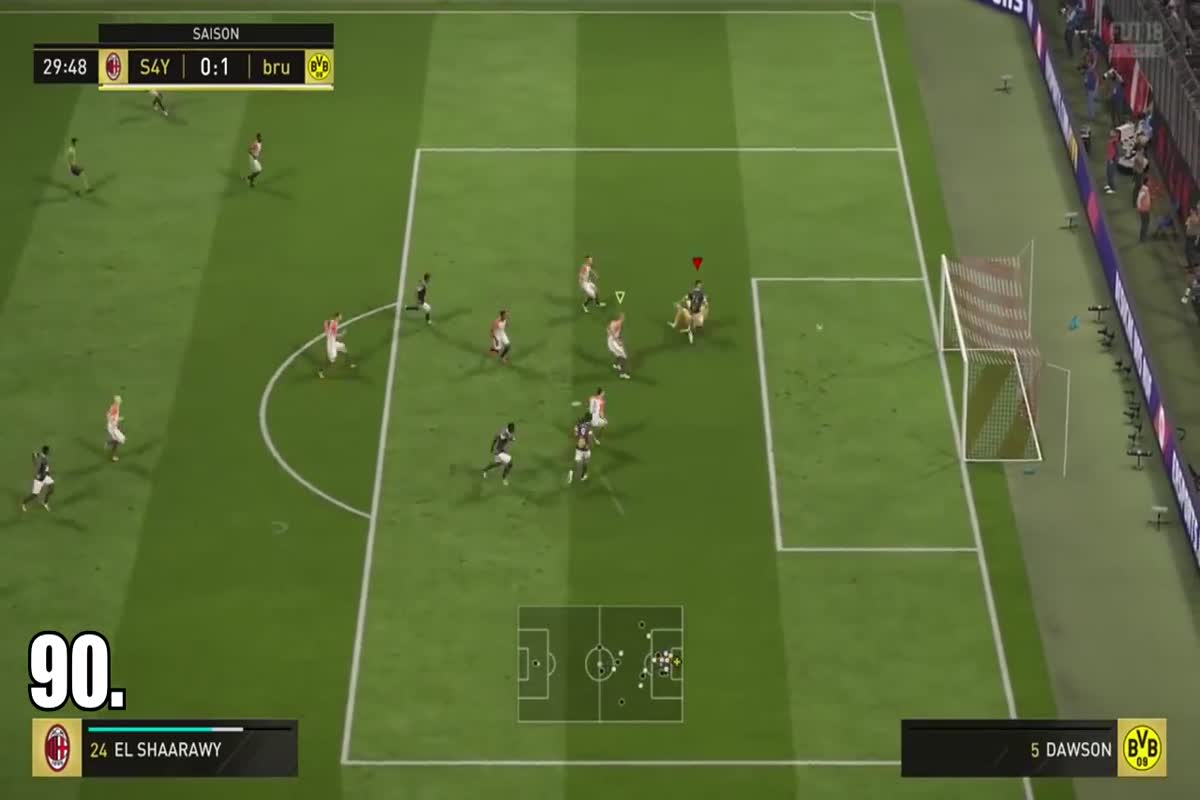ball: (804, 309, 837, 339)
